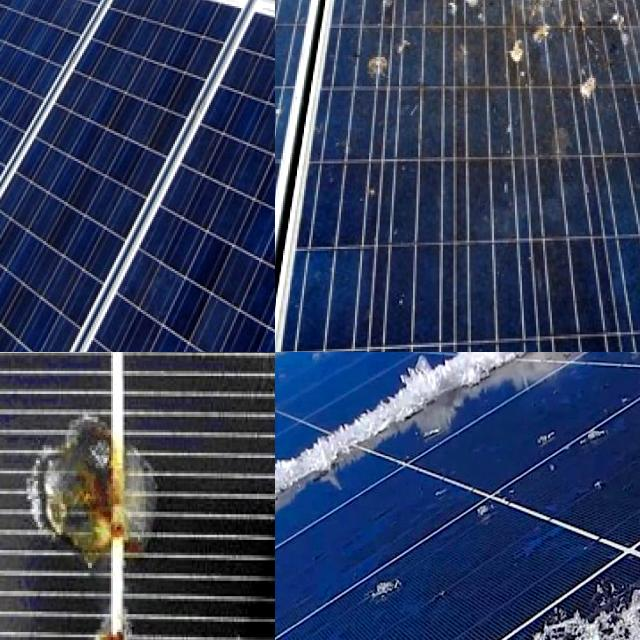bird: (453, 0, 602, 62), (361, 26, 434, 90), (493, 18, 558, 80), (364, 0, 419, 24), (580, 63, 600, 115), (275, 70, 296, 115), (284, 0, 311, 21), (275, 0, 292, 20)
crack: (0, 4, 253, 352), (0, 58, 275, 352)
panel: (354, 359, 508, 457), (516, 527, 640, 640), (275, 442, 359, 529), (275, 540, 334, 596)
shadow: (10, 352, 172, 640), (0, 444, 76, 608)
